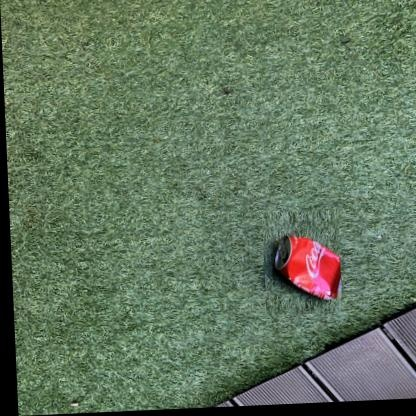trash: (273, 236, 340, 299)
